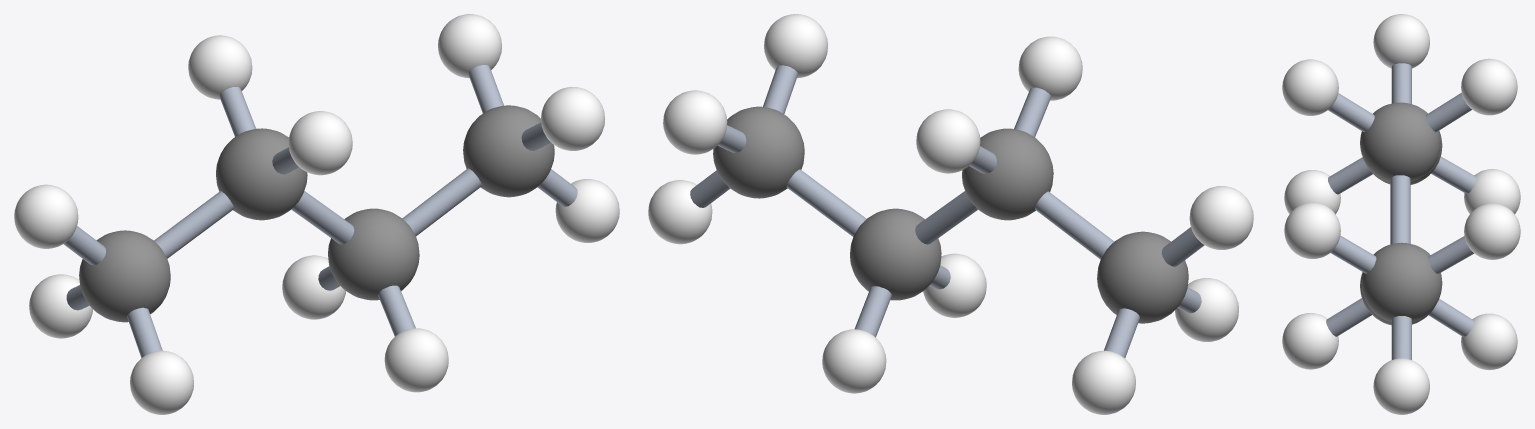
The model's file is butane.glb.
3 views of the same model, side by side, from view 1: azimuth 30°, elevation 25°; view 2: azimuth 150°, elevation 25°; view 3: azimuth 270°, elevation 25° (orthographic). The views are drawn at different scales.
Visible parts, largest first — view 1: H (×10), C (×4), bond (×9); view 2: H (×10), C (×4), bond (×9); view 3: H (×10), bond (×11), C (×4).
Part boxes in pixels (x1,y1,x2,y2): H (×10): (14,14,619,414); C (×4): (79,105,554,322); bond (×9): (63,65,577,357); H (×10): (648,14,1253,414); C (×4): (713,106,1188,323); bond (×9): (690,65,1204,357); H (×10): (1282,14,1520,414); bond (×11): (1326,63,1476,359); C (×4): (1360,102,1442,325).
Bounding box in the file's own units: 0.22 × 0.1061 × 0.0863.
